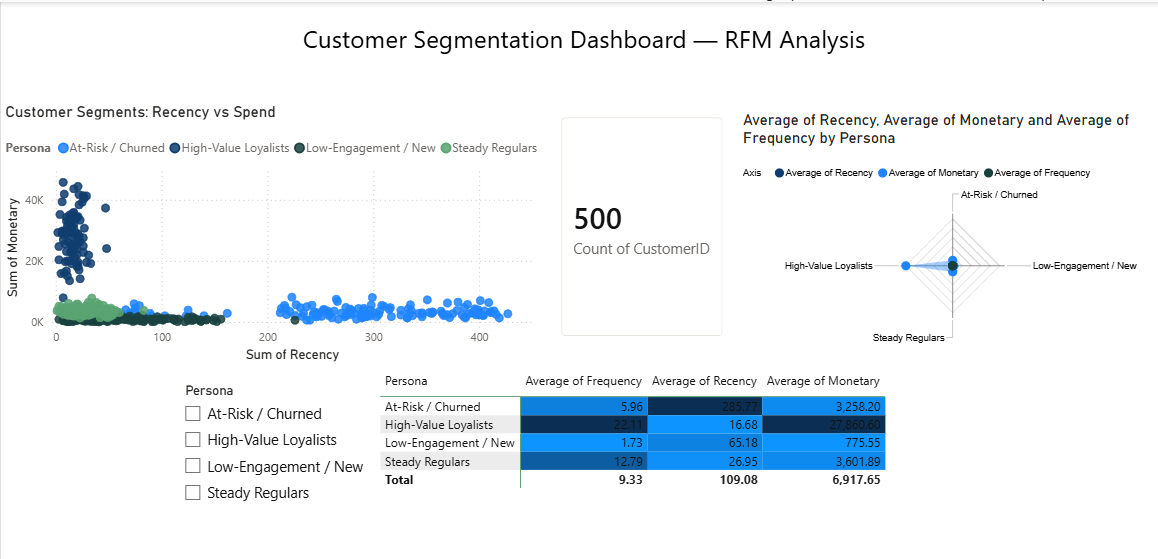

The dashboard page shown, as its layout file describes it:
{"tool":"powerbi","page":{"name":"Page 1","canvas":[1280,720],"ordinal":0},"visuals":[{"type":"scatterChart","title":"Customer Segments: Recency vs Spend","fields":{"X":["Sum(customer_segments.Recency)"],"Y":["Sum(customer_segments.Monetary)"],"Series":["customer_segments.Persona"],"Category":["customer_segments.CustomerID"]},"box":[0,109.8,598.3,289.5],"z":0},{"type":"pivotTable","fields":{"Rows":["customer_segments.Persona"],"Values":["Avg(customer_segments.Frequency)","Avg(customer_segments.Recency)","Avg(customer_segments.Monetary)"]},"box":[411.7,399.3,579.1,171.5],"z":1},{"type":"RadarChart1446119667547","fields":{"Category":["customer_segments.Persona"],"Y":["Avg(customer_segments.Recency)","Avg(customer_segments.Monetary)","Avg(customer_segments.Frequency)"]},"box":[809.6,119.4,470.7,264.8],"z":2},{"type":"cardVisual","fields":{"Data":["Count(customer_segments.CustomerID)"]},"box":[598.3,109.8,211.3,274.4],"z":3},{"type":"slicer","fields":{"Values":["customer_segments.Persona"]},"box":[189.4,413,219.6,289.5],"z":4},{"type":"textbox","box":[0,16.5,1280.3,64.5],"z":5}]}

Visuals, with their boxes on the page's 1280x720 design canvas (x1, y1, x2, y2). These are canvas units, not pixel positions in the 1158x559 screenshot, which may show the page scaled, cropped or inside an application window:
"Customer Segments: Recency vs Spend" scatterChart: 0, 110, 598, 399
pivotTable - customer_segments.Persona x Avg(customer_segments.Frequency): 412, 399, 991, 571
RadarChart1446119667547 - customer_segments.Persona x Avg(customer_segments.Recency): 810, 119, 1280, 384
cardVisual - Count(customer_segments.CustomerID): 598, 110, 810, 384
slicer - customer_segments.Persona: 189, 413, 409, 702
textbox: 0, 16, 1280, 81
